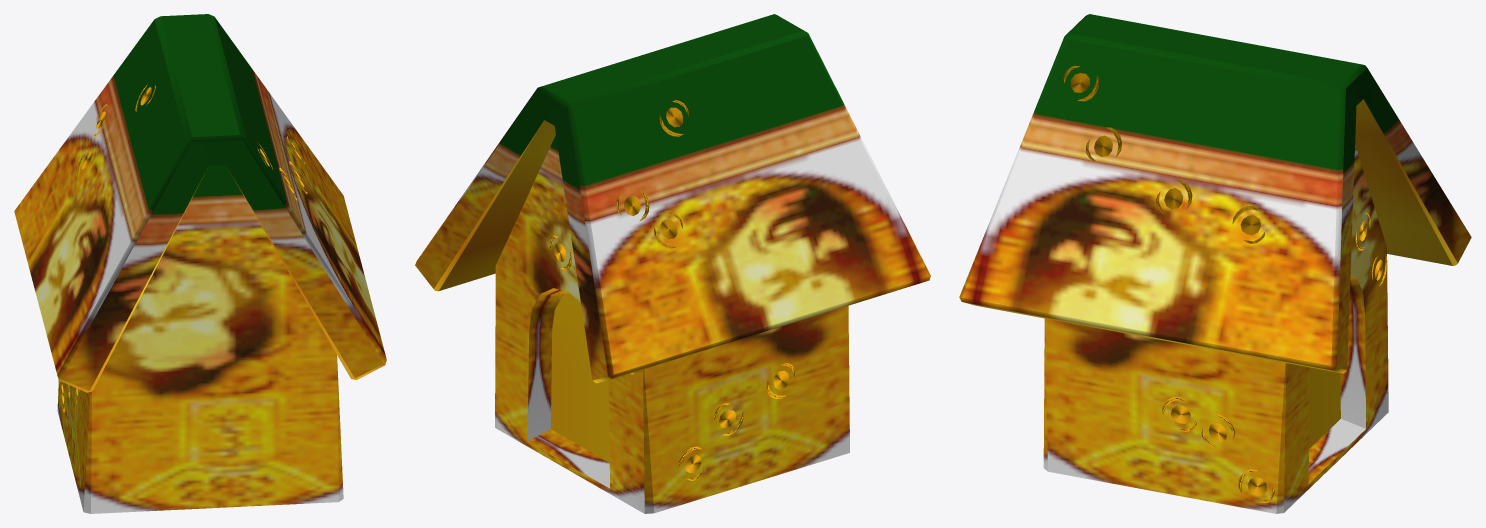
Rendered from icon.dat.obj.
3 views of the same model, side by side, from view 1: azimuth 30°, elevation 25°; view 2: azimuth 150°, elevation 25°; view 3: azimuth 270°, elevation 25° (orthographic). The views are drawn at different scales.
Bounding box in the file's own units: 4.45 × 4.04 × 4.79.
